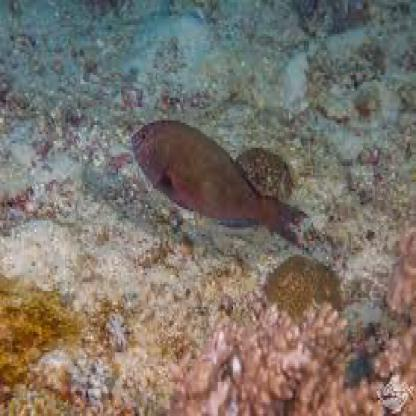parrot: (128, 110, 307, 249)
